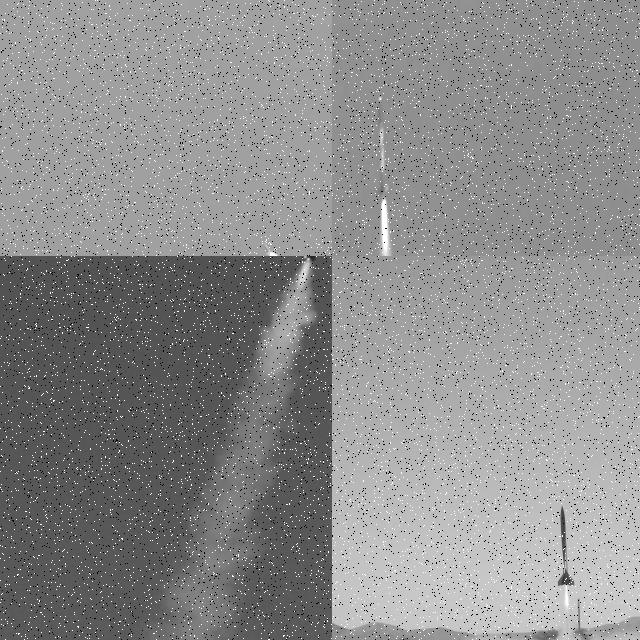Rocket: (557, 505, 576, 587), (376, 96, 390, 204), (264, 242, 272, 255)
